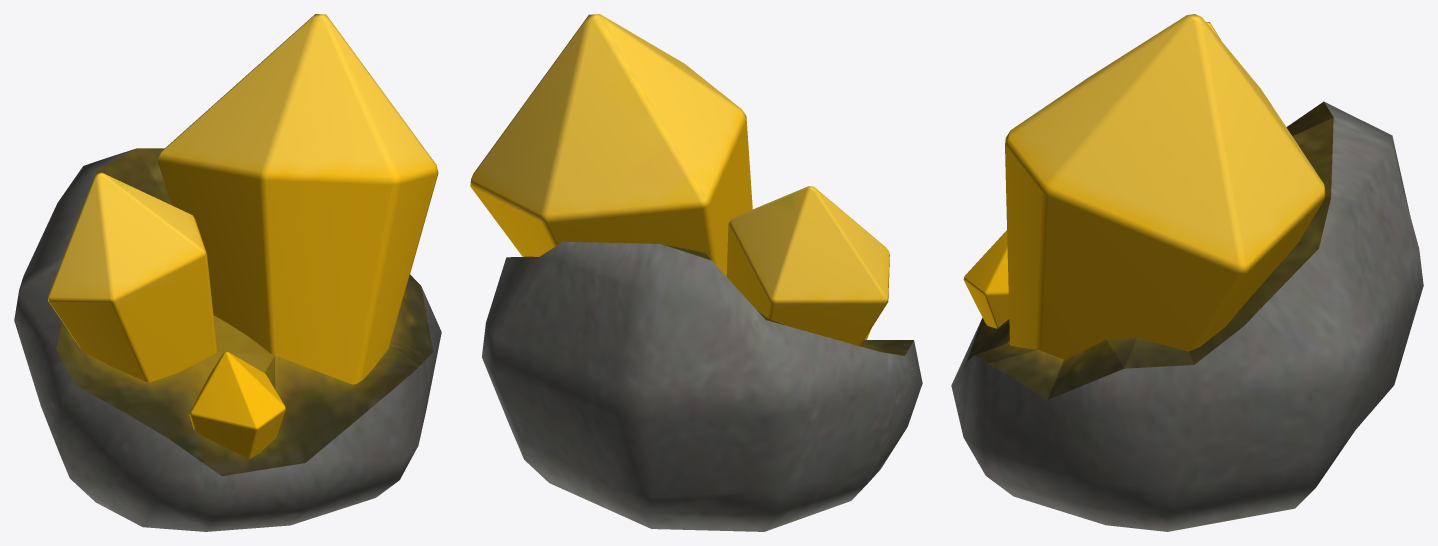
The model's file is UnitIconGold.glb.
3 views of the same model, side by side, from view 1: azimuth 30°, elevation 25°; view 2: azimuth 150°, elevation 25°; view 3: azimuth 270°, elevation 25° (orthographic). The views are drawn at different scales.
Visible parts, largest first — view 1: Body__mBody; view 2: Body__mBody; view 3: Body__mBody.
Boxes of the visible parts, <box> form: Body__mBody: <box>14,14,441,531</box>; Body__mBody: <box>470,14,922,531</box>; Body__mBody: <box>951,14,1423,531</box>.
Size of the model in its own units: 3.54 by 3.71 by 3.22.
1 material, 1 textured.
